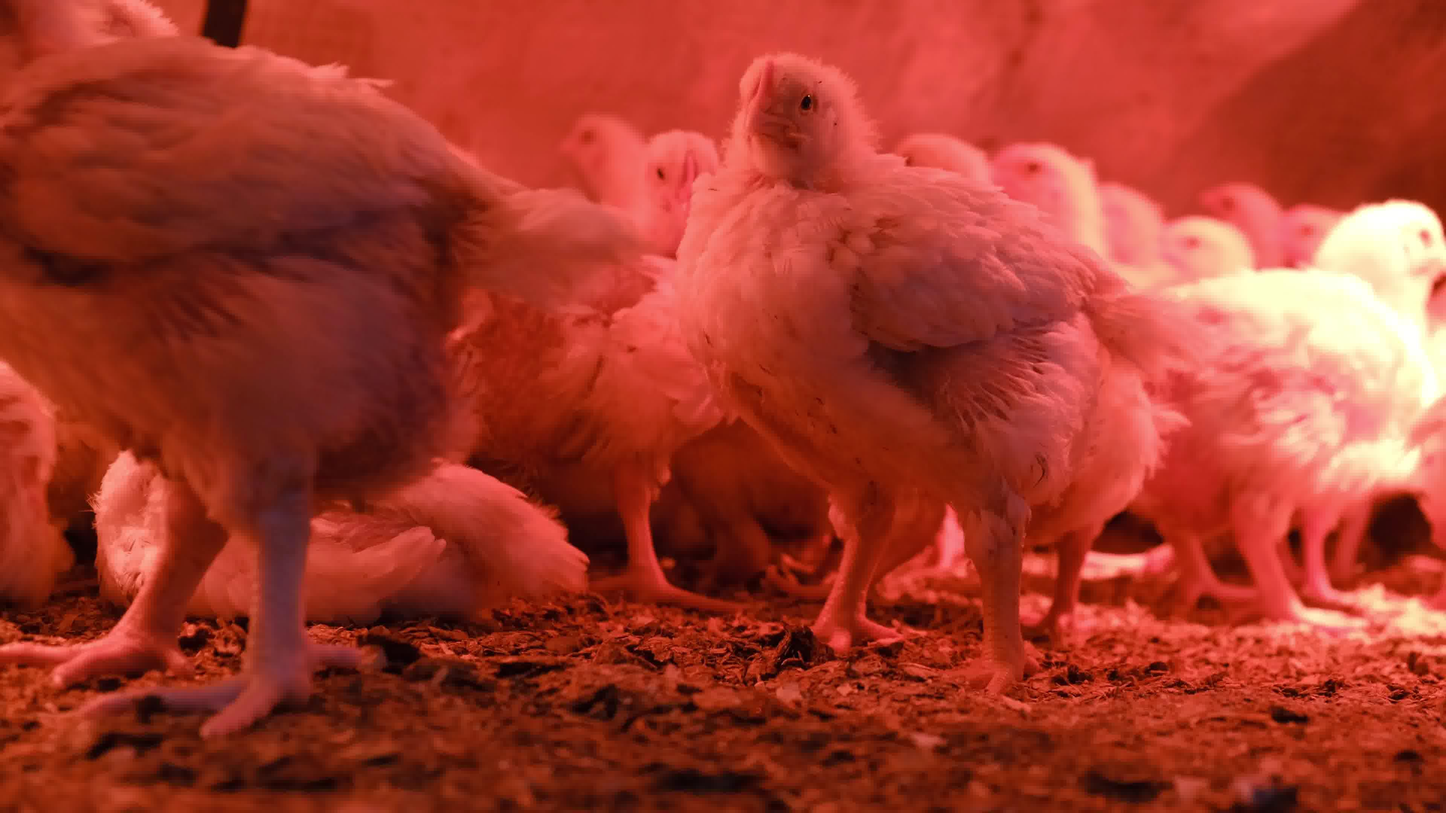AbNormal: (94, 405, 592, 629), (0, 352, 69, 613)
Normal: (4, 0, 643, 738), (686, 49, 1213, 702), (437, 123, 768, 617), (1134, 185, 1446, 634), (998, 140, 1104, 274), (554, 111, 650, 219), (893, 121, 997, 207), (1202, 174, 1286, 279), (1099, 175, 1171, 297), (1165, 206, 1254, 294), (1269, 196, 1358, 262)
